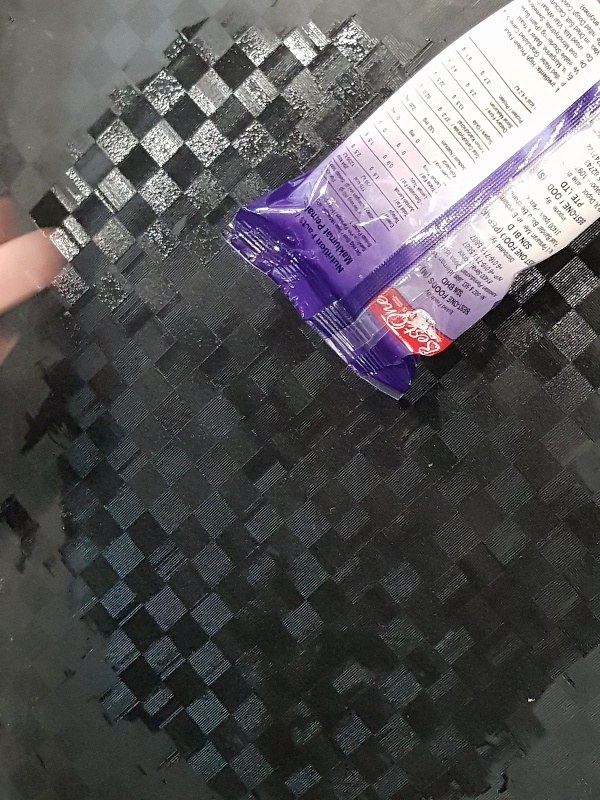Tinges Roll Chocolate: (223, 1, 600, 402)
